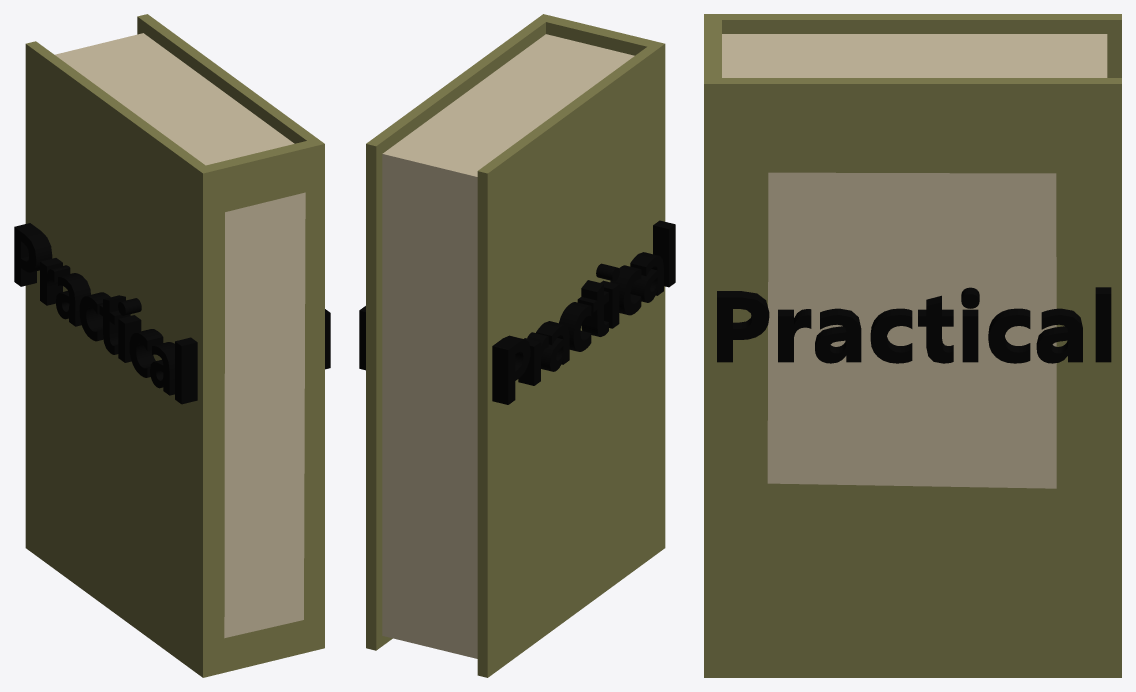
File: practical.fbx
3 views of the same model, side by side, from view 1: azimuth 30°, elevation 25°; view 2: azimuth 150°, elevation 25°; view 3: azimuth 270°, elevation 25° (orthographic). The views are drawn at different scales.
Visible parts, largest first — view 1: node_id7 (×2), node_id35; view 2: node_id7 (×2), node_id35; view 3: node_id7 (×2), node_id56.
Part boxes in pixels (x1,y1,x2,y2): node_id7 (×2): (25,14,324,677); node_id35: (14,223,197,404); node_id7 (×2): (366,14,665,677); node_id35: (492,220,675,404); node_id7 (×2): (704,14,1121,677); node_id56: (717,287,1111,363).
Size of the model in its own units: 0.1585 by 0.512 by 0.3264.
